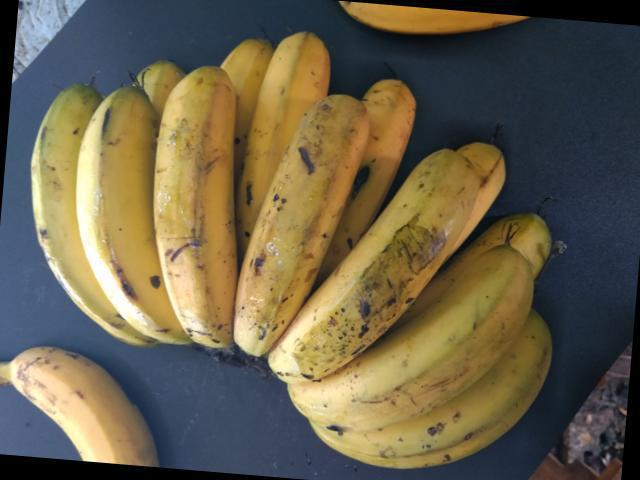ripe: (262, 150, 490, 387), (233, 101, 370, 374), (299, 265, 536, 413), (75, 84, 172, 343), (155, 66, 235, 369), (30, 78, 114, 321), (15, 351, 151, 479)
